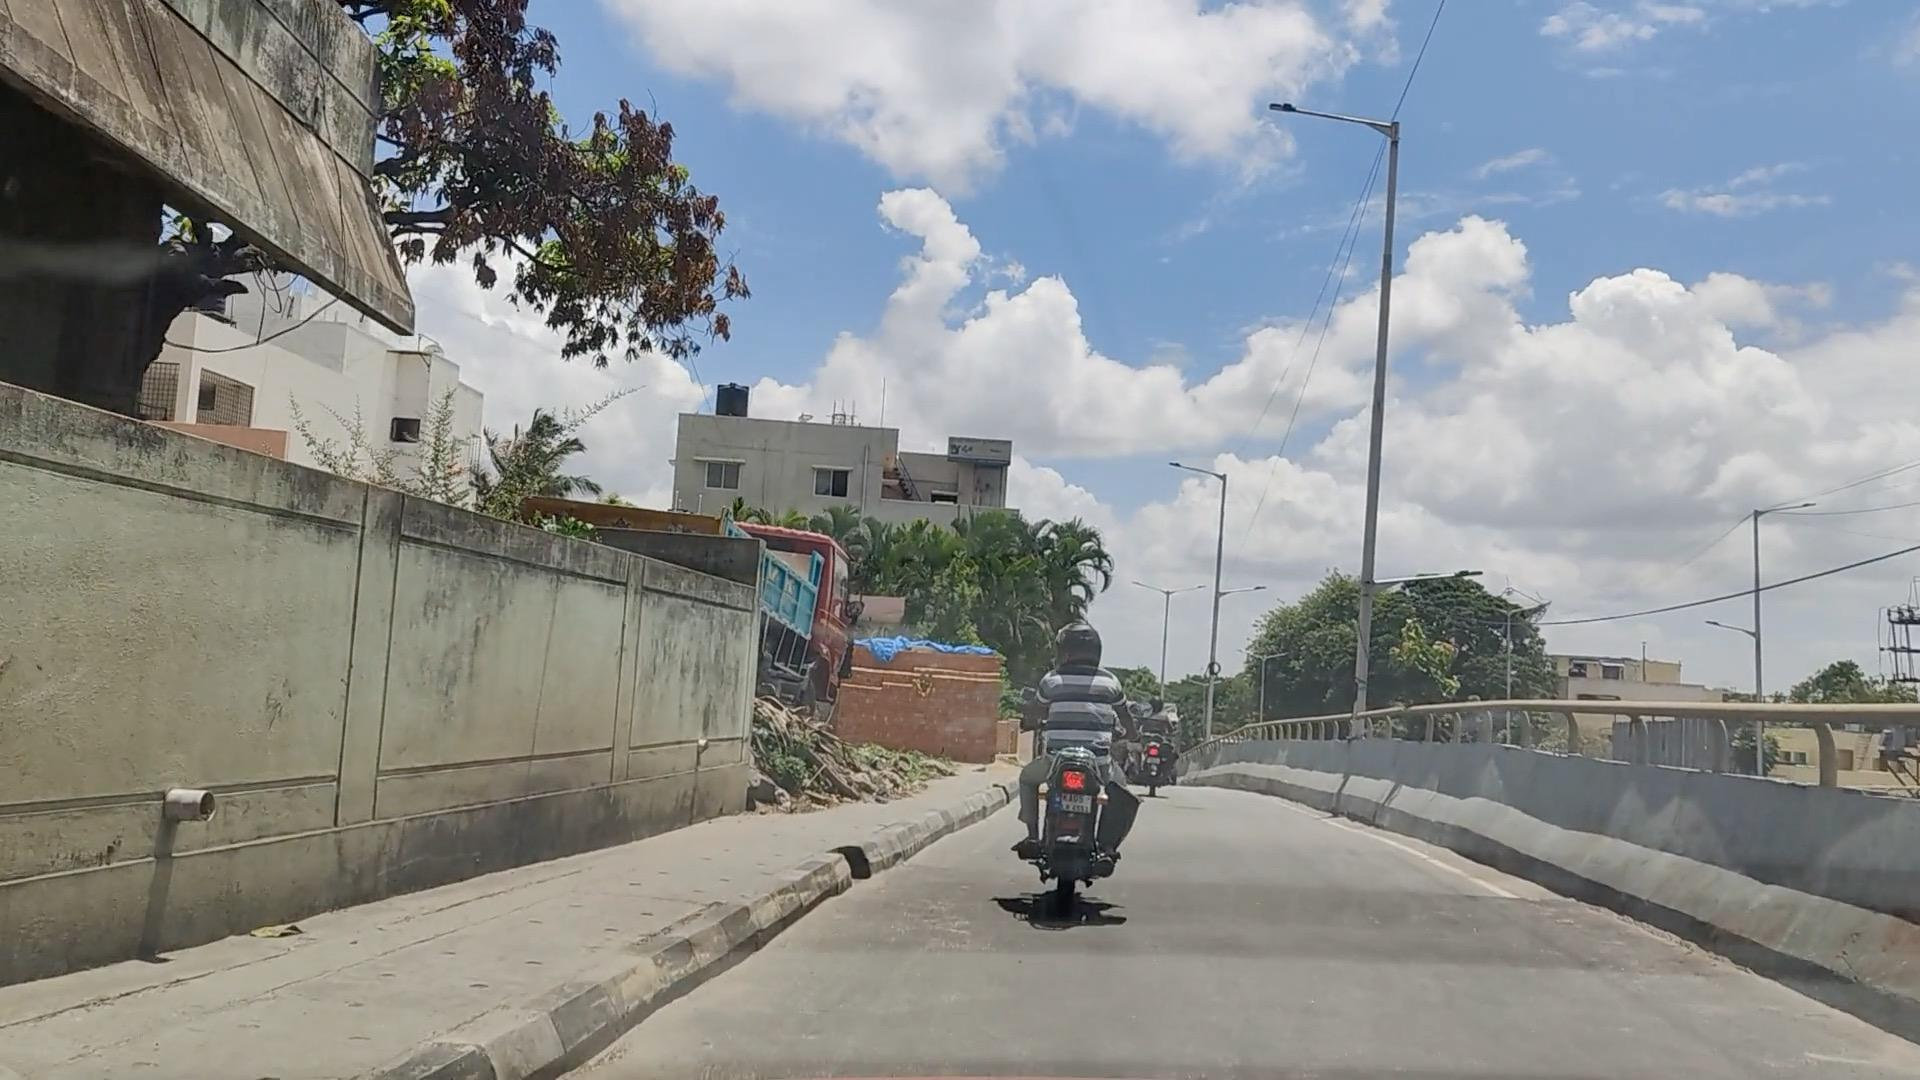RoadDamages: (857, 866, 1000, 968)
